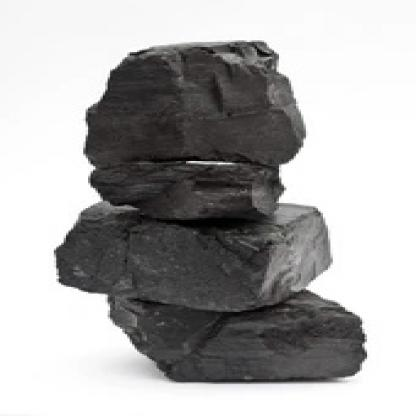Sedimentary_coal: (49, 30, 347, 161), (24, 214, 350, 304), (103, 285, 372, 384), (51, 166, 338, 210)
